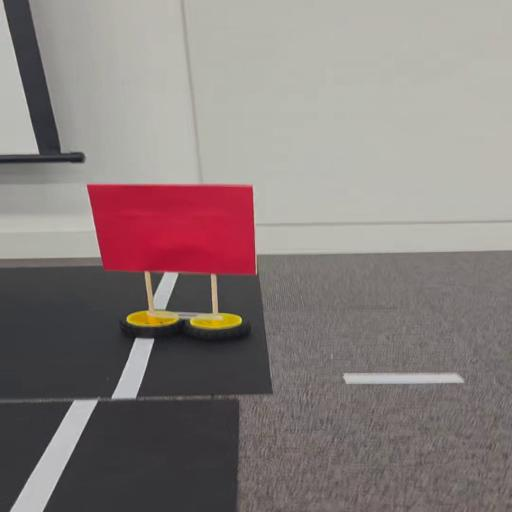Sign_A: (76, 180, 285, 352)
